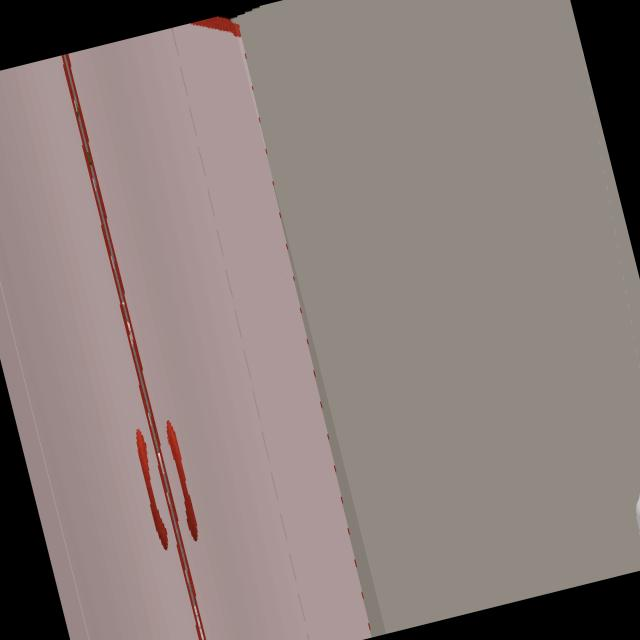shower: (0, 23, 368, 640)
